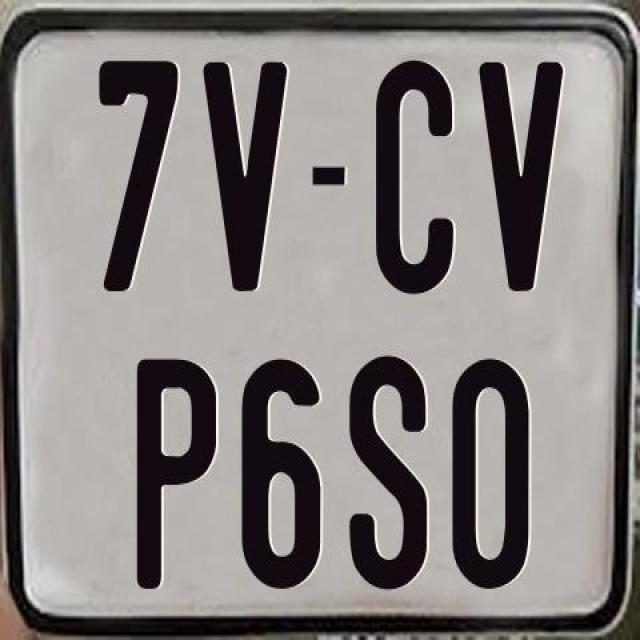0: (448, 356, 534, 588)
6: (237, 355, 323, 595)
7: (96, 56, 180, 288)
C: (376, 60, 454, 302)
P: (134, 355, 218, 592)
S: (350, 354, 428, 598)
V: (474, 60, 566, 298), (198, 59, 286, 298)
